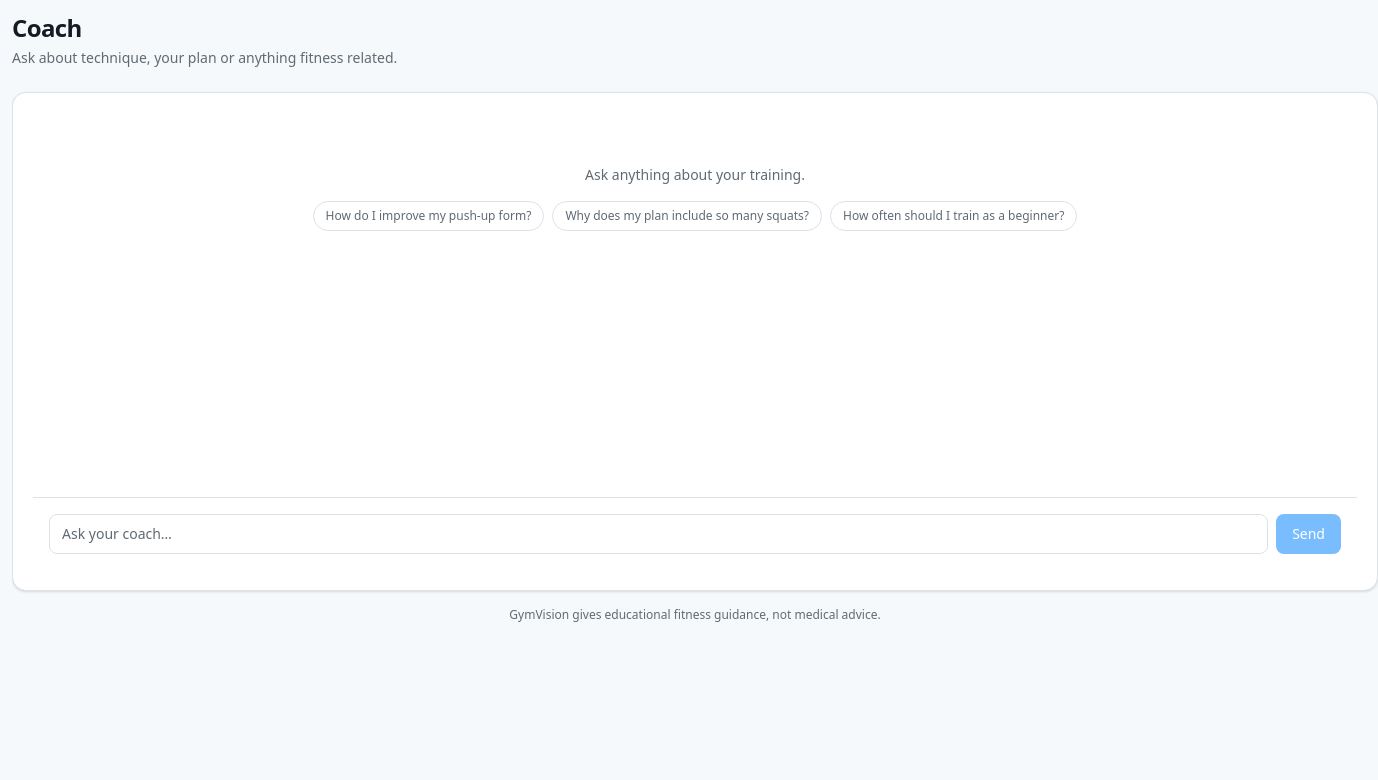
it: the coach › shows the user's message and the reply
The image size is (1378, 780).
Type "How do I do push-ups?" into the field named "message" at (659, 534), box [49, 514, 1268, 554]
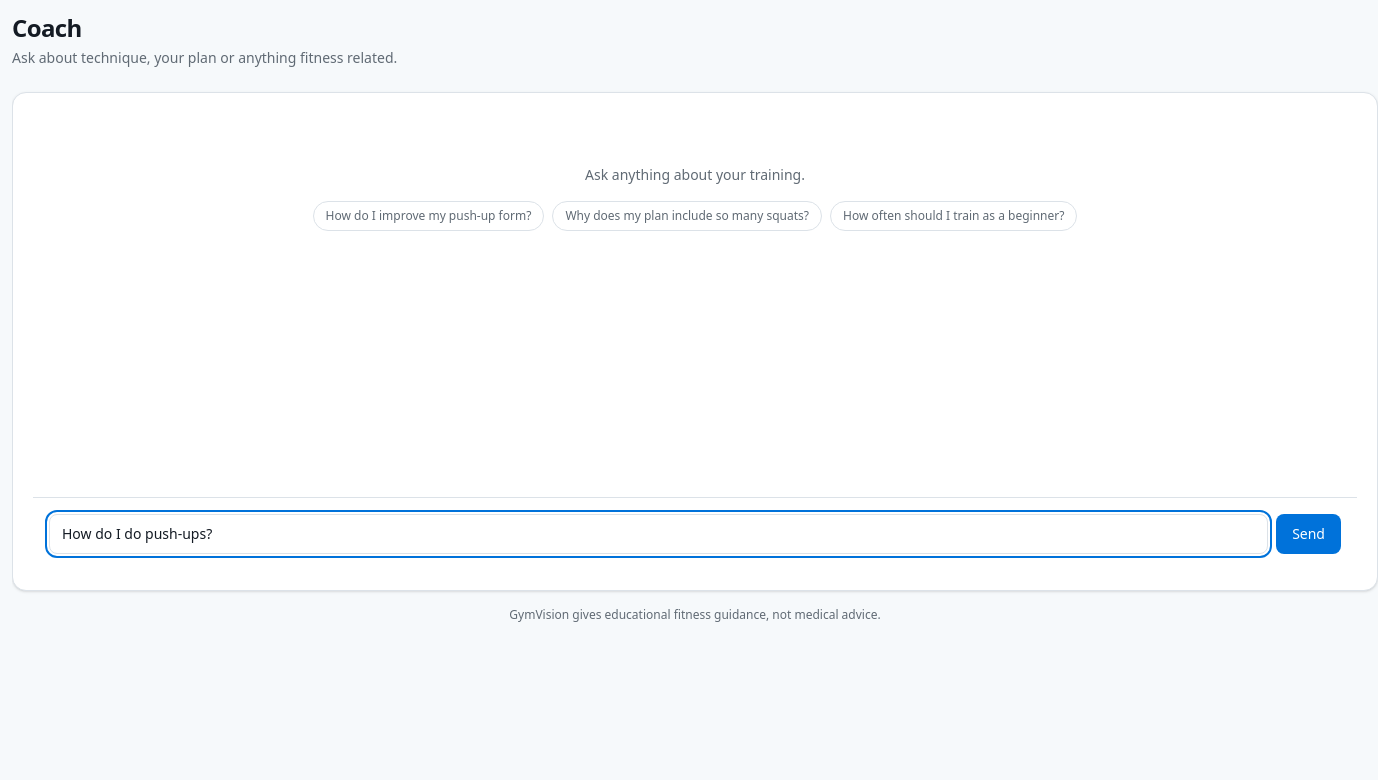
Click the button "Send" at (1309, 534), box [1276, 514, 1341, 554]
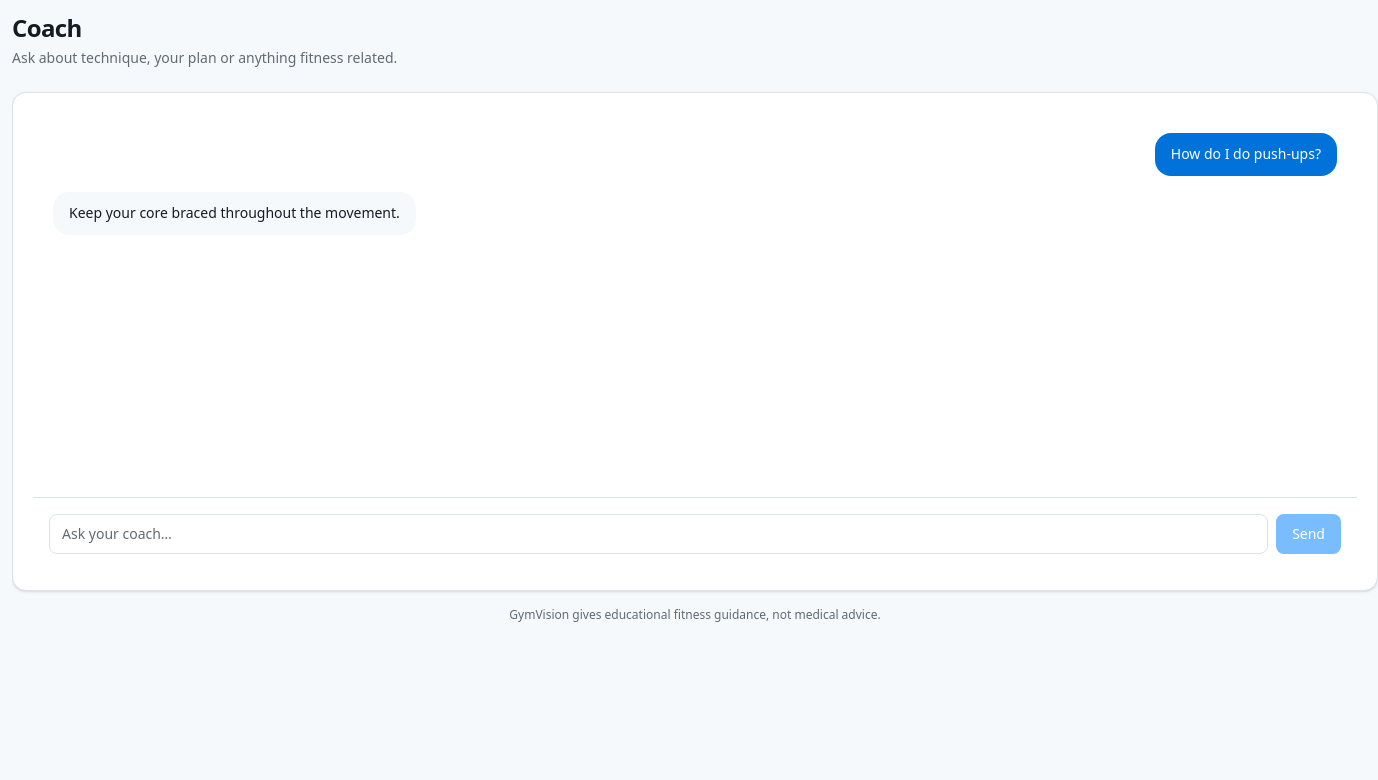
Expected: the text "How do I do push-ups?" is shown, [1155, 133, 1337, 176]
Expected: the text "Keep your core braced throughout the movement." is shown, [53, 192, 416, 235]
